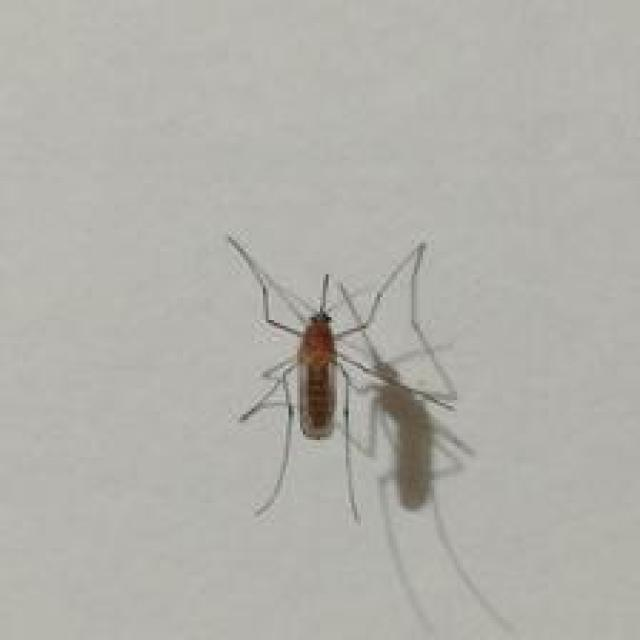Culex: (224, 231, 522, 640)
